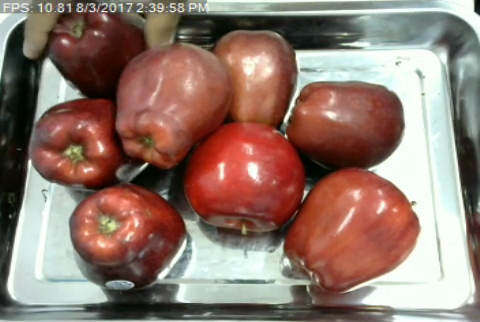Apple: (279, 164, 422, 296), (108, 37, 234, 167), (182, 117, 309, 239), (65, 182, 189, 290), (283, 78, 407, 174), (205, 26, 302, 138), (42, 4, 153, 101), (30, 96, 133, 190)
